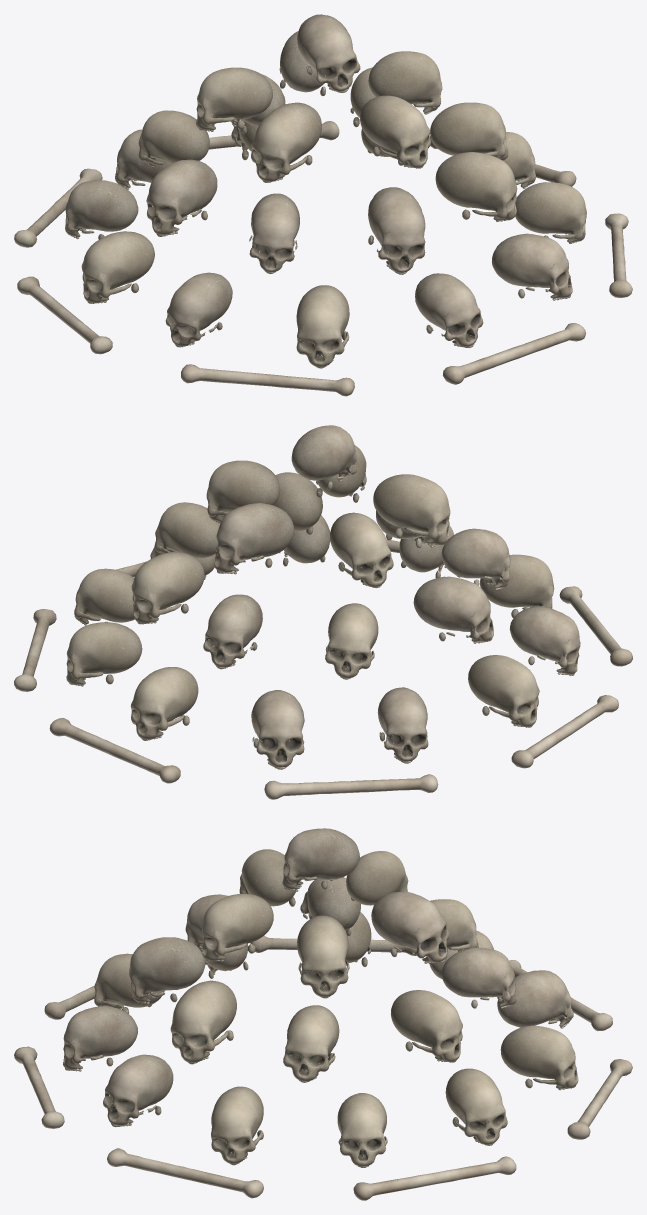
The model's file is skull_pile.glb.
3 renders of one model, top to bottom at view 1: azimuth 30°, elevation 25°; view 2: azimuth 150°, elevation 25°; view 3: azimuth 270°, elevation 25°, orthographic.
Parts seen in each view (by area): view 1: Loose_Bones, Skull_17, Skull_21, Skull_05, Skull_14, Skull_09, Skull_16, Skull_22, Skull_20, Skull_07, Skull_08, Skull_18 (+13 smaller); view 2: Loose_Bones, Skull_19, Skull_21, Skull_14, Skull_11, Skull_05, Skull_01, Skull_02, Skull_06, Skull_20, Skull_03, Skull_23 (+13 smaller); view 3: Loose_Bones, Skull_17, Skull_19, Skull_16, Skull_11, Skull_02, Skull_22, Skull_24, Skull_09, Skull_08, Skull_23, Skull_01 (+13 smaller).
Part boxes in pixels (left/top/right/bottom): Loose_Bones: left=14, top=121, right=632, bottom=396; Skull_17: left=435, top=152, right=517, bottom=221; Skull_21: left=251, top=102, right=321, bottom=182; Skull_05: left=81, top=231, right=154, bottom=303; Skull_14: left=146, top=159, right=217, bottom=236; Skull_09: left=492, top=233, right=572, bottom=300; Skull_16: left=368, top=187, right=425, bottom=274; Skull_22: left=360, top=95, right=430, bottom=168; Skull_20: left=196, top=67, right=272, bottom=131; Skull_07: left=296, top=285, right=349, bottom=368; Skull_08: left=415, top=273, right=483, bottom=347; Skull_18: left=430, top=102, right=508, bottom=160; Loose_Bones: left=14, top=540, right=632, bottom=799; Skull_19: left=214, top=503, right=294, bottom=574; Skull_21: left=373, top=474, right=450, bottom=545; Skull_14: left=413, top=576, right=493, bottom=643; Skull_11: left=131, top=552, right=204, bottom=624; Skull_05: left=468, top=655, right=539, bottom=727; Skull_01: left=66, top=622, right=142, bottom=686; Skull_02: left=130, top=667, right=198, bottom=740; Skull_06: left=509, top=607, right=580, bottom=675; Skull_20: left=330, top=512, right=393, bottom=588; Skull_03: left=251, top=690, right=304, bottom=769; Skull_23: left=206, top=460, right=280, bottom=523; Loose_Bones: left=14, top=936, right=632, bottom=1200; Skull_17: left=170, top=980, right=236, bottom=1064; Skull_19: left=371, top=891, right=449, bottom=963; Skull_16: left=129, top=937, right=205, bottom=1004; Skull_11: left=391, top=990, right=462, bottom=1062; Skull_02: left=500, top=1025, right=578, bottom=1090; Skull_22: left=201, top=893, right=273, bottom=961; Skull_24: left=282, top=828, right=359, bottom=891; Skull_09: left=103, top=1054, right=173, bottom=1127; Skull_08: left=63, top=1006, right=137, bottom=1071; Skull_23: left=297, top=915, right=349, bottom=998; Skull_01: left=445, top=1068, right=507, bottom=1145.
Bounding box in the file's own units: 1.65 × 0.7287 × 1.68.
1 material, 1 textured.
